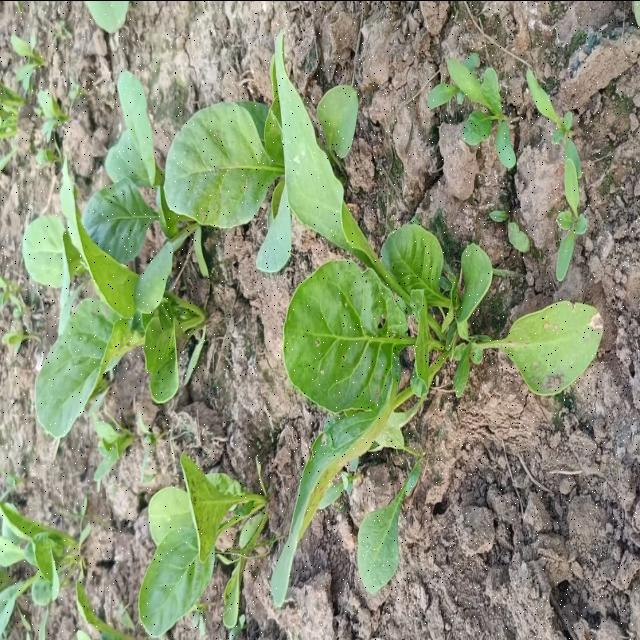plant: (165, 33, 602, 605)
